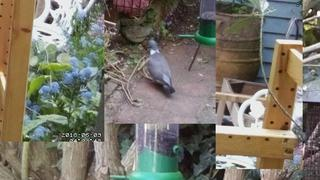wood pigeon: (146, 40, 176, 94)
